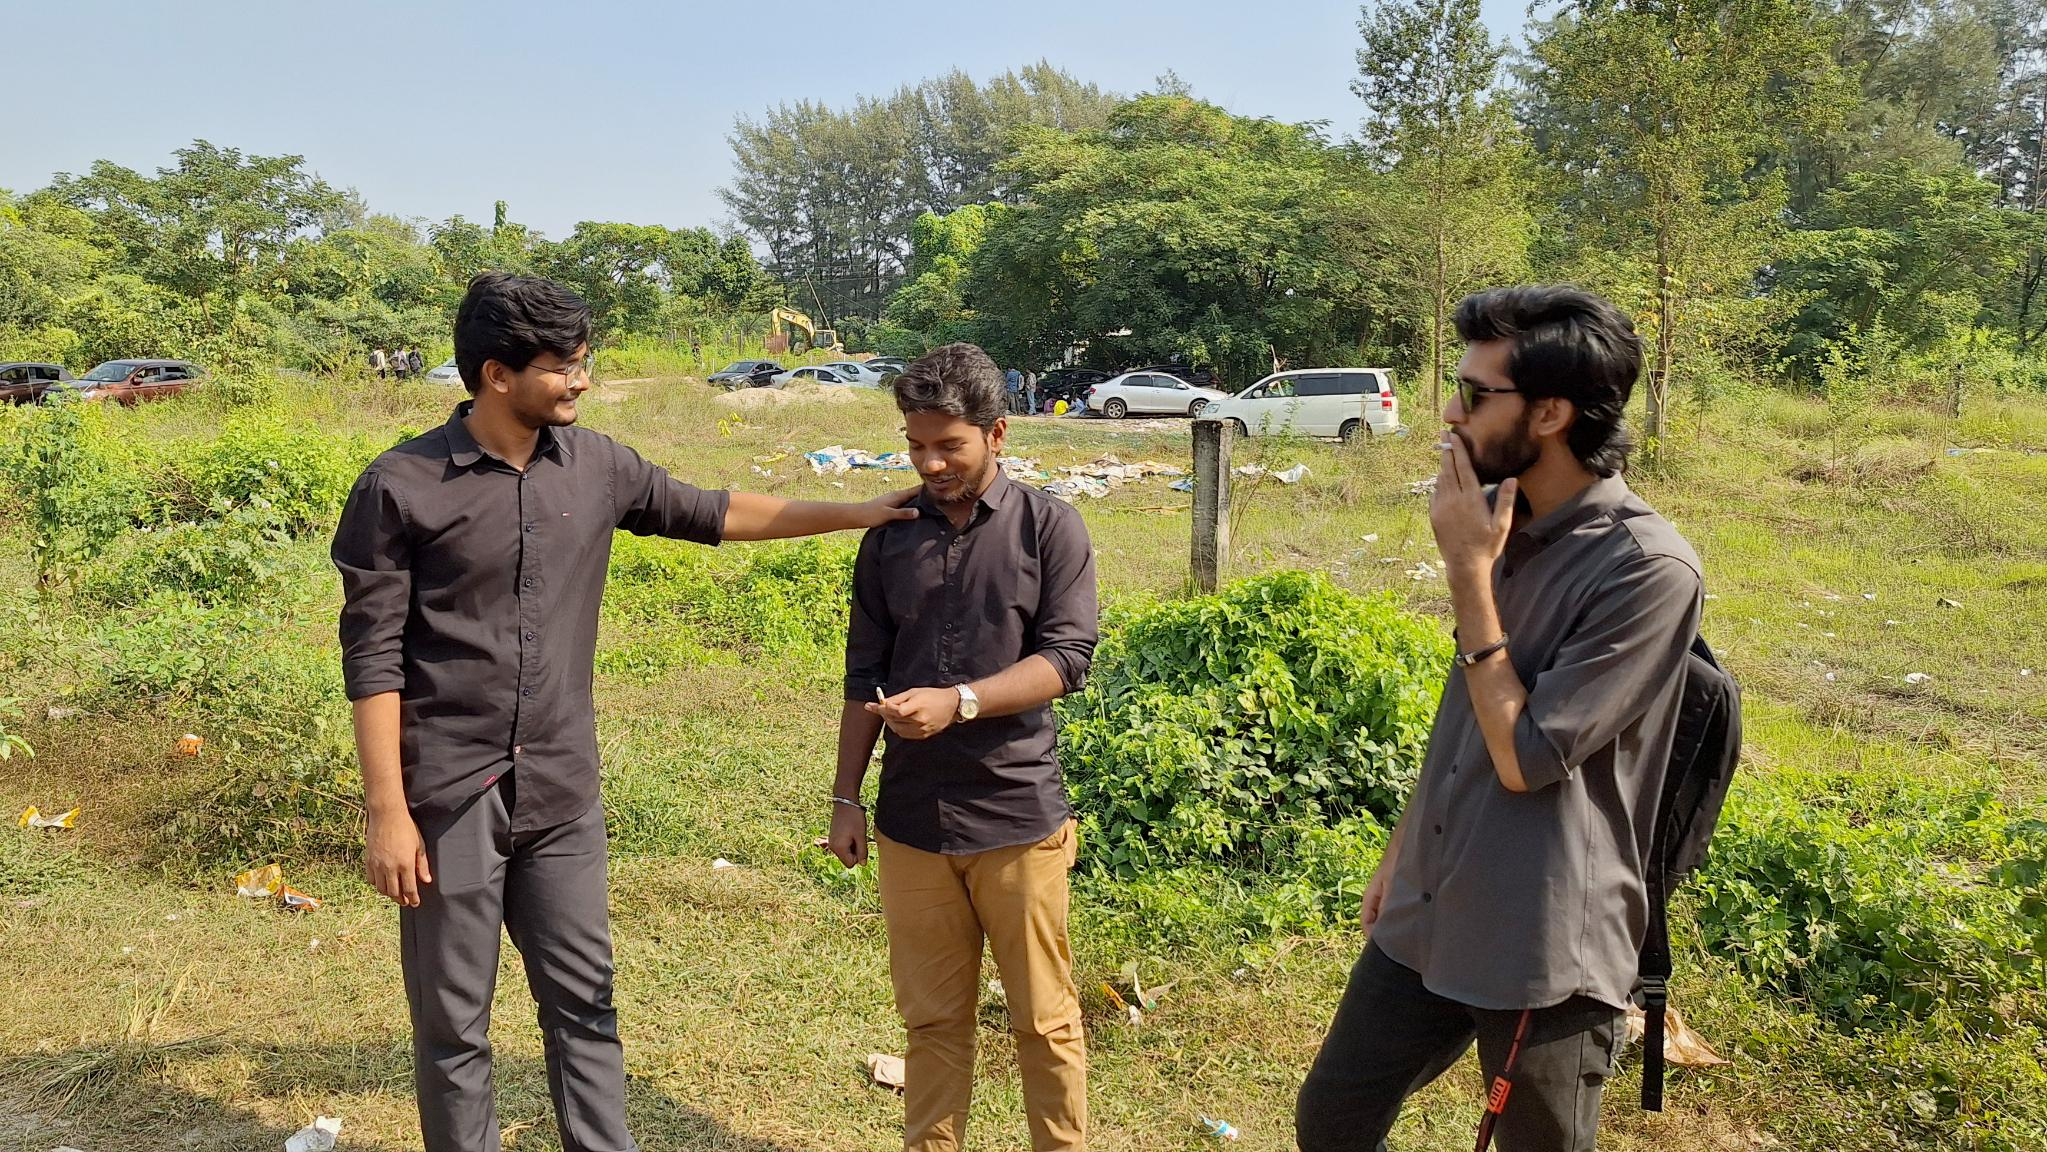cigarette: (873, 684, 889, 706), (1433, 440, 1457, 453)
nonSmoker: (330, 271, 918, 1152)
smoker: (1295, 284, 1745, 1152), (828, 345, 1098, 1152)
